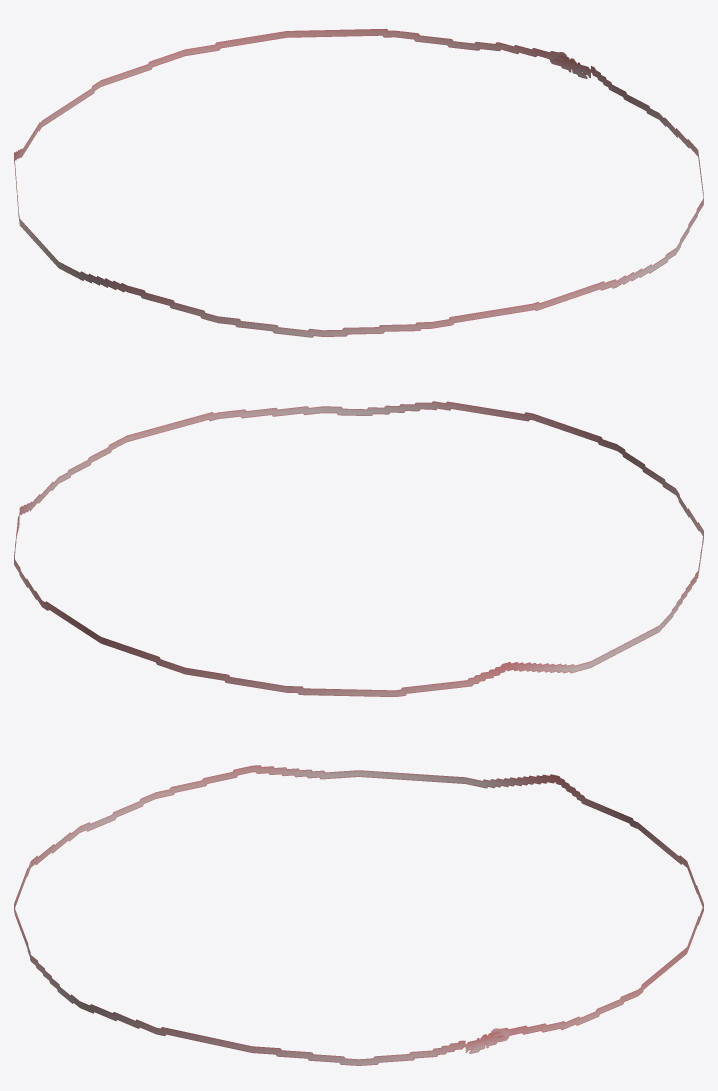
The model's file is AreaFrame.fbx.
3 renders of one model, top to bottom at view 1: azimuth 30°, elevation 25°; view 2: azimuth 150°, elevation 25°; view 3: azimuth 270°, elevation 25°, orthographic.
Visible parts, largest first — view 1: Area; view 2: Area; view 3: Area.
Boxes of the visible parts, left/top/right/bottom form: Area: left=14, top=28, right=703, bottom=337; Area: left=14, top=401, right=703, bottom=696; Area: left=14, top=765, right=703, bottom=1065.
Size of the model in its own units: 1.78 by 0.1244 by 1.79.
Materials: 1 (1 with a texture image).
